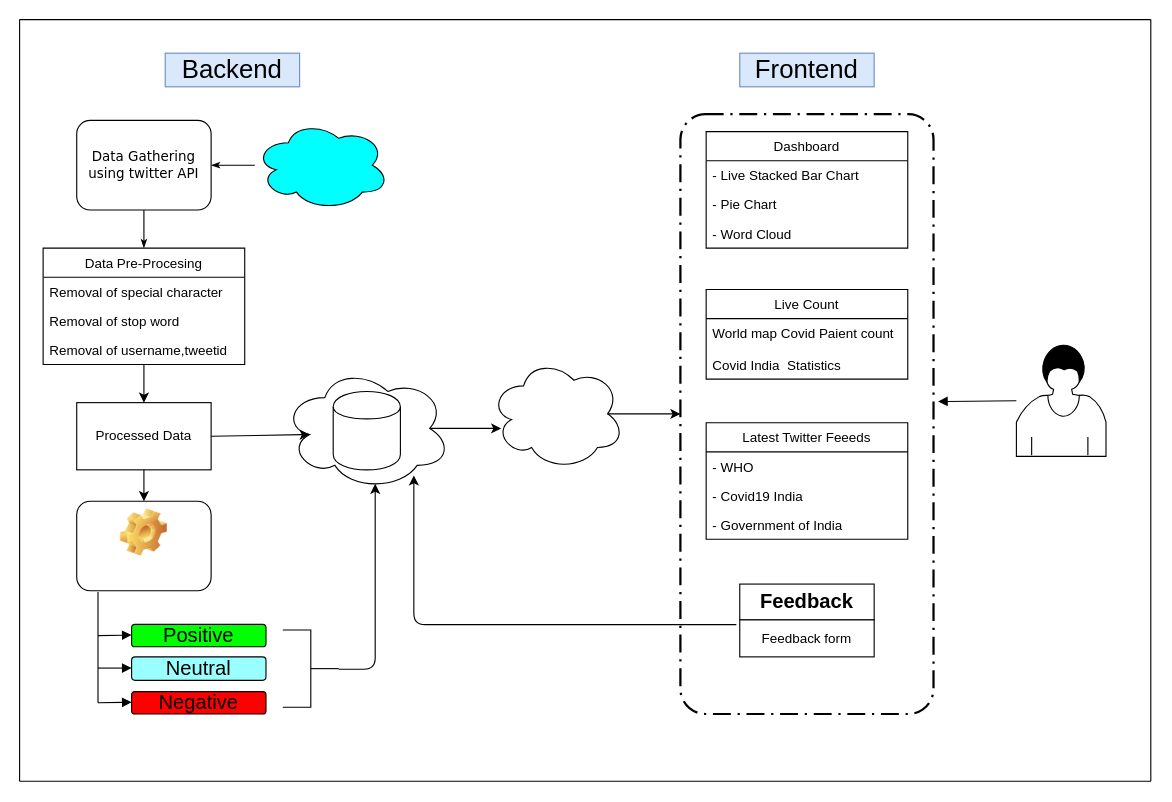
This 1172x802 diagram has some shape labels left out. The centre of each missing label's shape, as x and y in pixels:
Flask Web Application: the point at 556,413
LSTM Model: the point at 143,545
MySql Database: the point at 366,430
Twitter: the point at 321,164
